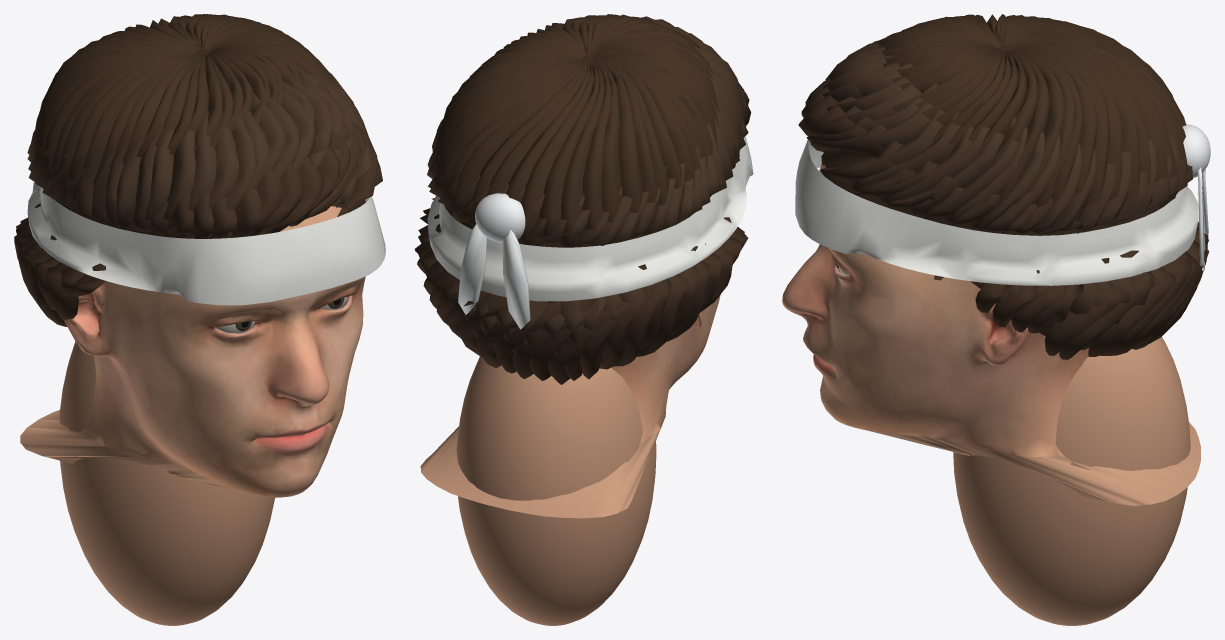
File: swept-player.glb
The picture shows the model from 3 angles, left to right: view 1: azimuth 30°, elevation 25°; view 2: azimuth 150°, elevation 25°; view 3: azimuth 270°, elevation 25°; orthographic projection. The views are drawn at different scales.
Parts seen in each view (by area): view 1: Court portrait, Court portrait.014, Neck core, Court portrait.015, Court portrait.013, Court portrait.016, Court portrait.012; view 2: Court portrait.014, Neck core, Court portrait.016, Court portrait.015, Court portrait.013, Court portrait, Court portrait.009, Court portrait.010, Court portrait.011, Court portrait.012; view 3: Court portrait, Neck core, Court portrait.014, Court portrait.015, Court portrait.013, Court portrait.016, Court portrait.012, Court portrait.009.
Part boxes in pixels (<box>): Court portrait: <box>20,206,365,497</box>; Court portrait.014: <box>33,14,335,183</box>; Neck core: <box>59,341,274,625</box>; Court portrait.015: <box>16,73,373,273</box>; Court portrait.013: <box>27,182,385,305</box>; Court portrait.016: <box>14,120,382,326</box>; Court portrait.012: <box>35,42,365,239</box>; Court portrait.014: <box>435,14,718,247</box>; Neck core: <box>456,356,656,625</box>; Court portrait.016: <box>414,83,751,384</box>; Court portrait.015: <box>417,14,744,354</box>; Court portrait.013: <box>427,136,753,301</box>; Court portrait: <box>420,295,720,518</box>; Court portrait.009: <box>475,193,525,242</box>; Court portrait.010: <box>503,230,530,329</box>; Court portrait.011: <box>458,224,486,314</box>; Court portrait.012: <box>434,52,711,302</box>; Court portrait: <box>782,163,1200,505</box>; Neck core: <box>953,337,1190,625</box>; Court portrait.014: <box>870,14,1188,233</box>; Court portrait.015: <box>821,40,1209,324</box>; Court portrait.013: <box>795,139,1198,285</box>; Court portrait.016: <box>798,78,1208,359</box>; Court portrait.012: <box>823,42,1177,336</box>; Court portrait.009: <box>1182,124,1210,178</box>.
Size of the model in its own units: 0.2103 by 0.3861 by 0.2561.
11 materials, 1 textured.
